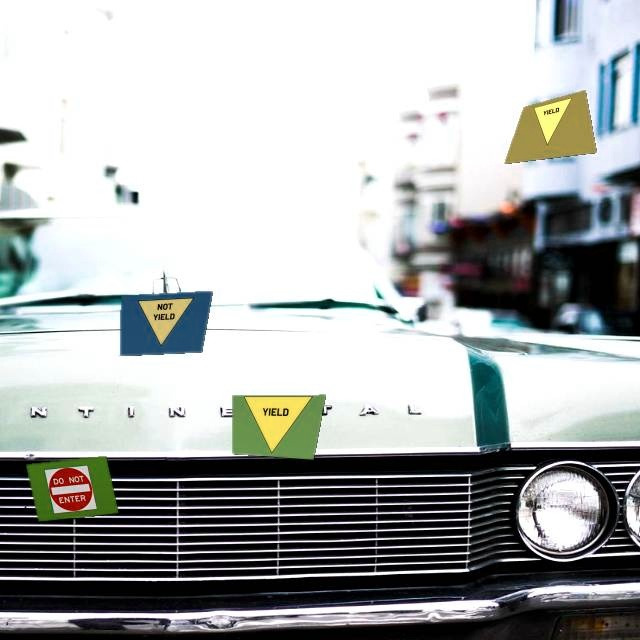DO_NOT_ENTER: (44, 465, 97, 514)
NOT_YIELD: (135, 298, 194, 347)
YIELD: (242, 396, 313, 456), (522, 98, 574, 149)
